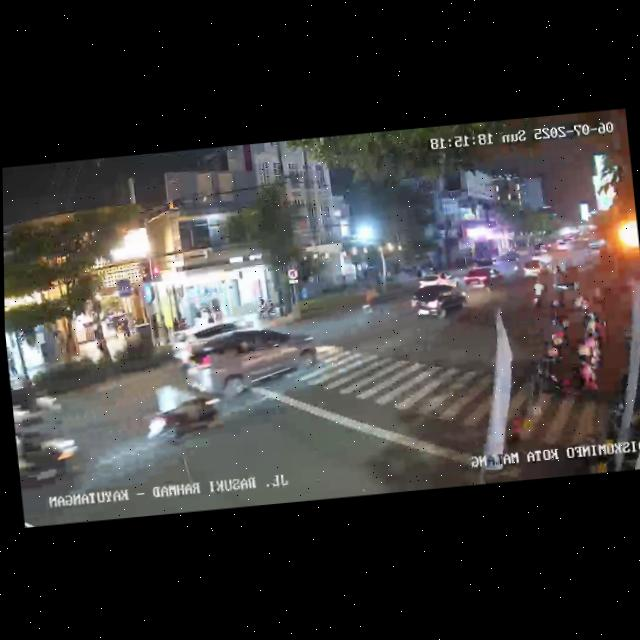car: (185, 323, 346, 398), (168, 321, 259, 362), (409, 279, 470, 323), (460, 263, 492, 293), (518, 254, 555, 279)
motorcycle: (143, 367, 227, 447), (15, 409, 84, 493), (528, 275, 548, 310)
person: (93, 326, 107, 359), (6, 346, 18, 377), (203, 301, 214, 324), (212, 297, 222, 321)
